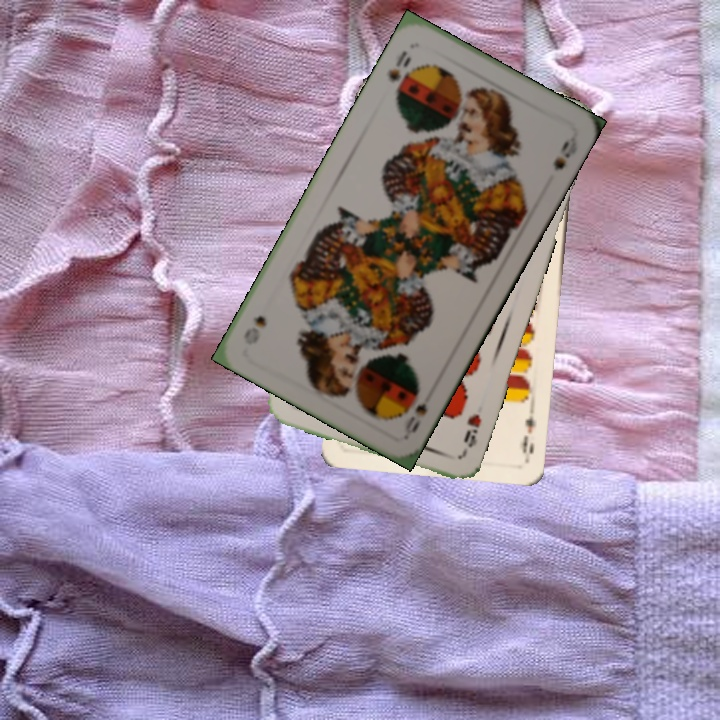E9: (518, 403, 538, 456)
H9: (458, 410, 484, 457)
SO: (383, 46, 414, 97), (400, 398, 430, 439)
